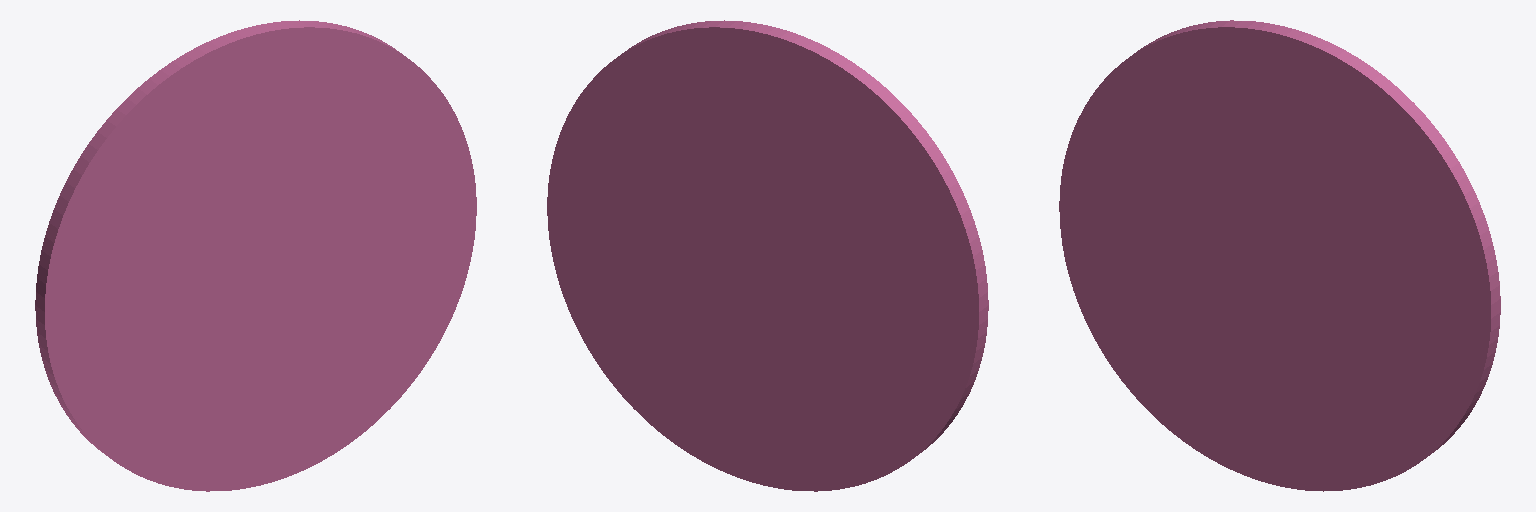
URDF robot description (crazyflie2):
<?xml version="1.0" ?>
<!-- =================================================================================== -->
<!-- |    This document was autogenerated by xacro from crazyflie2.xacro               | -->
<!-- |    EDITING THIS FILE BY HAND IS NOT RECOMMENDED                                 | -->
<!-- =================================================================================== -->
<!--
  Copyright 2018 [author], University of Sannio in Benevento, Italy
  Copyright 2018 [author], University of Sannio in Benevento, Italy
  Copyright 2018 [author], MIT, USA
  Copyright 2018 [author], University of Sannio in Benevento, Italy

  Licensed under the Apache License, Version 2.0 (the "License");
  you may not use this file except in compliance with the License.
  You may obtain a copy of the License at

  http://www.apache.org/licenses/LICENSE-2.0

  Unless required by applicable law or agreed to in writing, software
  distributed under the License is distributed on an "AS IS" BASIS,
  WITHOUT WARRANTIES OR CONDITIONS OF ANY KIND, either express or implied.
  See the License for the specific language governing permissions and
  limitations under the License.
-->
<robot name="crazyflie2" xmlns:xacro="http://ros.org/wiki/xacro">
  <link name="crazyflie2/base_link"/>
  <joint name="crazyflie2/base_joint" type="fixed">
    <origin rpy="0 0 0" xyz="0 0 0"/>
    <parent link="crazyflie2/base_link"/>
    <child link="crazyflie2/base_link_inertia"/>
  </joint>
  <link name="crazyflie2/base_link_inertia">
    <inertial>
      <mass value="0.025"/>
      <!-- [kg] -->
      <origin xyz="0 0 0"/>
      <inertia ixx="1.657171e-05" ixy="0.0" ixz="0.0" iyy="1.657171e-05" iyz="0.0" izz="2.9261652e-05"/>
    </inertial>
    <visual>
      <origin rpy="0 0 0" xyz="0 0 0"/>
      <geometry>
        <mesh filename="package://rotors_description/meshes/crazyflie2.dae" scale="1 1 1"/>
      </geometry>
    </visual>
    <collision>
      <origin rpy="0 0 0" xyz="0 0 0"/>
      <geometry>
        <box size="0.045 0.045 0.03"/>
        <!-- [m] [m] [m] -->
      </geometry>
    </collision>
  </link>
  <!-- attach multirotor_base_plugin to the base_link -->
  <gazebo>
    <plugin filename="librotors_gazebo_multirotor_base_plugin.so" name="multirotor_base_plugin">
      <robotNamespace>crazyflie2</robotNamespace>
      <linkName>crazyflie2/base_link</linkName>
      <rotorVelocitySlowdownSim>50</rotorVelocitySlowdownSim>
    </plugin>
  </gazebo>
  <joint name="crazyflie2/rotor_0_joint" type="continuous">
    <origin rpy="0 0 0" xyz="0.0325269119346 -0.0325269119346 0.024"/>
    <axis xyz="0 0 1"/>
    <!-- TODO(ff): not currently set because it's not yet supported -->
    <!-- <limit effort="2000" velocity="${max_rot_velocity}" /> -->
    <parent link="crazyflie2/base_link"/>
    <child link="crazyflie2/rotor_0"/>
  </joint>
  <link name="crazyflie2/rotor_0">
    <inertial>
      <mass value="0.0005"/>
      <!-- [kg] -->
      <inertia ixx="1.20833285e-07" ixy="0.0" ixz="0.0" iyy="1.07343707062e-06" iyz="0.0" izz="1.15677037062e-06"/>
    </inertial>
    <visual>
      <geometry>
        <mesh filename="package://rotors_description/meshes/propeller_ccw.dae" scale="0.0225 0.0225 0.0225"/>
        <!-- The propeller meshes have a radius of 1m -->
        <!-- <box size="${2*radius_rotor} 0.01 0.005"/> -->
      </geometry>
    </visual>
    <collision>
      <geometry>
        <cylinder length="0.005" radius="0.0225"/>
        <!-- [m] -->
      </geometry>
    </collision>
  </link>
  <gazebo>
    <plugin filename="librotors_gazebo_motor_model.so" name="crazyflie2_front-right_motor_model">
      <robotNamespace>crazyflie2</robotNamespace>
      <jointName>crazyflie2/rotor_0_joint</jointName>
      <linkName>crazyflie2/rotor_0</linkName>
      <turningDirection>ccw</turningDirection>
      <timeConstantUp>0.0125</timeConstantUp>
      <timeConstantDown>0.025</timeConstantDown>
      <maxRotVelocity>2618</maxRotVelocity>
      <motorConstant>1.28192e-08</motorConstant>
      <momentConstant>0.005964552</momentConstant>
      <commandSubTopic>gazebo/command/motor_speed</commandSubTopic>
      <motorNumber>0</motorNumber>
      <rotorDragCoefficient>8.06428e-05</rotorDragCoefficient>
      <rollingMomentCoefficient>1e-06</rollingMomentCoefficient>
      <motorSpeedPubTopic>motor_speed/0</motorSpeedPubTopic>
      <rotorVelocitySlowdownSim>50</rotorVelocitySlowdownSim>
    </plugin>
  </gazebo>
  <gazebo reference="crazyflie2/rotor_0">
    <material>Gazebo/Red</material>
  </gazebo>
  <joint name="crazyflie2/rotor_1_joint" type="continuous">
    <origin rpy="0 0 0" xyz="-0.0325269119346 -0.0325269119346 0.024"/>
    <axis xyz="0 0 1"/>
    <!-- TODO(ff): not currently set because it's not yet supported -->
    <!-- <limit effort="2000" velocity="${max_rot_velocity}" /> -->
    <parent link="crazyflie2/base_link"/>
    <child link="crazyflie2/rotor_1"/>
  </joint>
  <link name="crazyflie2/rotor_1">
    <inertial>
      <mass value="0.0005"/>
      <!-- [kg] -->
      <inertia ixx="1.20833285e-07" ixy="0.0" ixz="0.0" iyy="1.07343707062e-06" iyz="0.0" izz="1.15677037062e-06"/>
    </inertial>
    <visual>
      <geometry>
        <mesh filename="package://rotors_description/meshes/propeller_cw.dae" scale="0.0225 0.0225 0.0225"/>
        <!-- The propeller meshes have a radius of 1m -->
        <!-- <box size="${2*radius_rotor} 0.01 0.005"/> -->
      </geometry>
    </visual>
    <collision>
      <geometry>
        <cylinder length="0.005" radius="0.0225"/>
        <!-- [m] -->
      </geometry>
    </collision>
  </link>
  <gazebo>
    <plugin filename="librotors_gazebo_motor_model.so" name="crazyflie2_back-right_motor_model">
      <robotNamespace>crazyflie2</robotNamespace>
      <jointName>crazyflie2/rotor_1_joint</jointName>
      <linkName>crazyflie2/rotor_1</linkName>
      <turningDirection>cw</turningDirection>
      <timeConstantUp>0.0125</timeConstantUp>
      <timeConstantDown>0.025</timeConstantDown>
      <maxRotVelocity>2618</maxRotVelocity>
      <motorConstant>1.28192e-08</motorConstant>
      <momentConstant>0.005964552</momentConstant>
      <commandSubTopic>gazebo/command/motor_speed</commandSubTopic>
      <motorNumber>1</motorNumber>
      <rotorDragCoefficient>8.06428e-05</rotorDragCoefficient>
      <rollingMomentCoefficient>1e-06</rollingMomentCoefficient>
      <motorSpeedPubTopic>motor_speed/1</motorSpeedPubTopic>
      <rotorVelocitySlowdownSim>50</rotorVelocitySlowdownSim>
    </plugin>
  </gazebo>
  <gazebo reference="crazyflie2/rotor_1">
    <material>Gazebo/Blue</material>
  </gazebo>
  <joint name="crazyflie2/rotor_2_joint" type="continuous">
    <origin rpy="0 0 0" xyz="-0.0325269119346 0.0325269119346 0.024"/>
    <axis xyz="0 0 1"/>
    <!-- TODO(ff): not currently set because it's not yet supported -->
    <!-- <limit effort="2000" velocity="${max_rot_velocity}" /> -->
    <parent link="crazyflie2/base_link"/>
    <child link="crazyflie2/rotor_2"/>
  </joint>
  <link name="crazyflie2/rotor_2">
    <inertial>
      <mass value="0.0005"/>
      <!-- [kg] -->
      <inertia ixx="1.20833285e-07" ixy="0.0" ixz="0.0" iyy="1.07343707062e-06" iyz="0.0" izz="1.15677037062e-06"/>
    </inertial>
    <visual>
      <geometry>
        <mesh filename="package://rotors_description/meshes/propeller_ccw.dae" scale="0.0225 0.0225 0.0225"/>
        <!-- The propeller meshes have a radius of 1m -->
        <!-- <box size="${2*radius_rotor} 0.01 0.005"/> -->
      </geometry>
    </visual>
    <collision>
      <geometry>
        <cylinder length="0.005" radius="0.0225"/>
        <!-- [m] -->
      </geometry>
    </collision>
  </link>
  <gazebo>
    <plugin filename="librotors_gazebo_motor_model.so" name="crazyflie2_back-left_motor_model">
      <robotNamespace>crazyflie2</robotNamespace>
      <jointName>crazyflie2/rotor_2_joint</jointName>
      <linkName>crazyflie2/rotor_2</linkName>
      <turningDirection>ccw</turningDirection>
      <timeConstantUp>0.0125</timeConstantUp>
      <timeConstantDown>0.025</timeConstantDown>
      <maxRotVelocity>2618</maxRotVelocity>
      <motorConstant>1.28192e-08</motorConstant>
      <momentConstant>0.005964552</momentConstant>
      <commandSubTopic>gazebo/command/motor_speed</commandSubTopic>
      <motorNumber>2</motorNumber>
      <rotorDragCoefficient>8.06428e-05</rotorDragCoefficient>
      <rollingMomentCoefficient>1e-06</rollingMomentCoefficient>
      <motorSpeedPubTopic>motor_speed/2</motorSpeedPubTopic>
      <rotorVelocitySlowdownSim>50</rotorVelocitySlowdownSim>
    </plugin>
  </gazebo>
  <gazebo reference="crazyflie2/rotor_2">
    <material>Gazebo/Blue</material>
  </gazebo>
  <joint name="crazyflie2/rotor_3_joint" type="continuous">
    <origin rpy="0 0 0" xyz="0.0325269119346 0.0325269119346 0.024"/>
    <axis xyz="0 0 1"/>
    <!-- TODO(ff): not currently set because it's not yet supported -->
    <!-- <limit effort="2000" velocity="${max_rot_velocity}" /> -->
    <parent link="crazyflie2/base_link"/>
    <child link="crazyflie2/rotor_3"/>
  </joint>
  <link name="crazyflie2/rotor_3">
    <inertial>
      <mass value="0.0005"/>
      <!-- [kg] -->
      <inertia ixx="1.20833285e-07" ixy="0.0" ixz="0.0" iyy="1.07343707062e-06" iyz="0.0" izz="1.15677037062e-06"/>
    </inertial>
    <visual>
      <geometry>
        <mesh filename="package://rotors_description/meshes/propeller_cw.dae" scale="0.0225 0.0225 0.0225"/>
        <!-- The propeller meshes have a radius of 1m -->
        <!-- <box size="${2*radius_rotor} 0.01 0.005"/> -->
      </geometry>
    </visual>
    <collision>
      <geometry>
        <cylinder length="0.005" radius="0.0225"/>
        <!-- [m] -->
      </geometry>
    </collision>
  </link>
  <gazebo>
    <plugin filename="librotors_gazebo_motor_model.so" name="crazyflie2_front-left_motor_model">
      <robotNamespace>crazyflie2</robotNamespace>
      <jointName>crazyflie2/rotor_3_joint</jointName>
      <linkName>crazyflie2/rotor_3</linkName>
      <turningDirection>cw</turningDirection>
      <timeConstantUp>0.0125</timeConstantUp>
      <timeConstantDown>0.025</timeConstantDown>
      <maxRotVelocity>2618</maxRotVelocity>
      <motorConstant>1.28192e-08</motorConstant>
      <momentConstant>0.005964552</momentConstant>
      <commandSubTopic>gazebo/command/motor_speed</commandSubTopic>
      <motorNumber>3</motorNumber>
      <rotorDragCoefficient>8.06428e-05</rotorDragCoefficient>
      <rollingMomentCoefficient>1e-06</rollingMomentCoefficient>
      <motorSpeedPubTopic>motor_speed/3</motorSpeedPubTopic>
      <rotorVelocitySlowdownSim>50</rotorVelocitySlowdownSim>
    </plugin>
  </gazebo>
  <gazebo reference="crazyflie2/rotor_3">
    <material>Gazebo/Green</material>
  </gazebo>


  <!-- whycon marker -->
  <joint name="crazyflie2/whycon_marker_joint" type="fixed">
    <origin rpy="0 0 0" xyz="0 0 0.3"/>
    <axis xyz="0 0 1"/>
    <!-- TODO(ff): not currently set because it's not yet supported -->
    <!-- <limit effort="2000" velocity="${max_rot_velocity}" /> -->
    <parent link="crazyflie2/base_link"/>
    <child link="crazyflie2/whycon_marker"/>
  </joint>
  <link name="crazyflie2/whycon_marker">
    <inertial>
      <mass value="0.005"/>
      <!-- [kg] -->
      <inertia ixx="0.00000801" ixy="0.0" ixz="0.0"
        iyy="0.00000801" iyz="0.0"
        izz="0.000016"/>
      <!-- <inertia ixx="1.6e-05" ixy="0.0" ixz="0.0" iyy="1.6e-05" iyz="0.0" izz="1.6e-05"/> -->
    </inertial>
    <visual>
      <geometry>
        <mesh filename="package://rotors_description/meshes/whycon_maker_base.stl"/>
        <!-- The propeller meshes have a radius of 1m -->
        <!-- <box size="${2*radius_rotor} 0.01 0.005"/> -->
      </geometry>
    </visual>
    <collision>
      <geometry>
        <cylinder length="0.005" radius="0.0225"/>
        <!-- [m] -->
      </geometry>
    </collision>
  </link> 
</robot>

--- Facts derived from the render (not from the file) ---
Views: 3 orthographic renders of the robot side by side, from view 1: azimuth 30°, elevation 25°; view 2: azimuth 150°, elevation 25°; view 3: azimuth 330°, elevation 25°.
Robot: crazyflie2 — 7 links, 6 joints (4 continuous, 2 fixed); root link crazyflie2/base_link; default pose: all joints at 0.
Links seen in each view (by area): view 1: crazyflie2/whycon_marker; view 2: crazyflie2/whycon_marker; view 3: crazyflie2/whycon_marker.
Boxes of the visible links, x1,y1,x2,y2 form: crazyflie2/whycon_marker: [35, 20, 476, 491]; crazyflie2/whycon_marker: [547, 20, 988, 491]; crazyflie2/whycon_marker: [1059, 20, 1500, 491].
Bounding box of the posed robot: 79.98 × 3 × 79.99 m (x, y, z).
1 mesh visuals loaded from 4 distinct referenced files (1 binary STL); not drawn: 5 (reference not matched to a file when rendering).